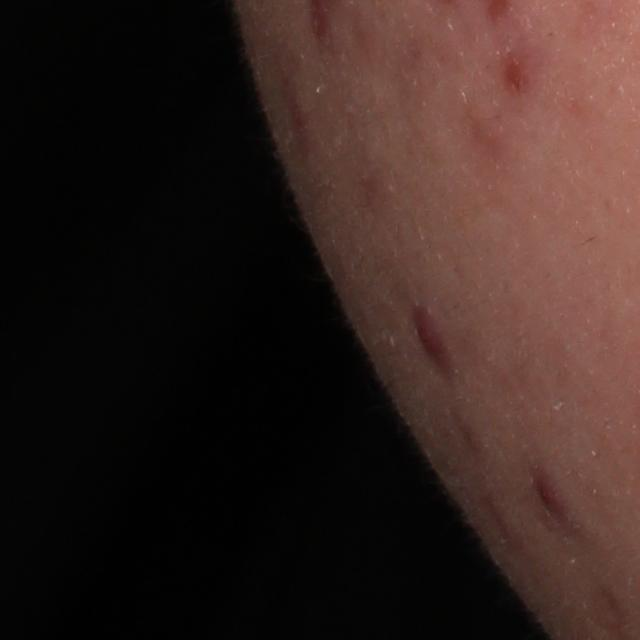papule: (412, 304, 451, 370), (532, 471, 577, 528), (500, 52, 532, 91)
